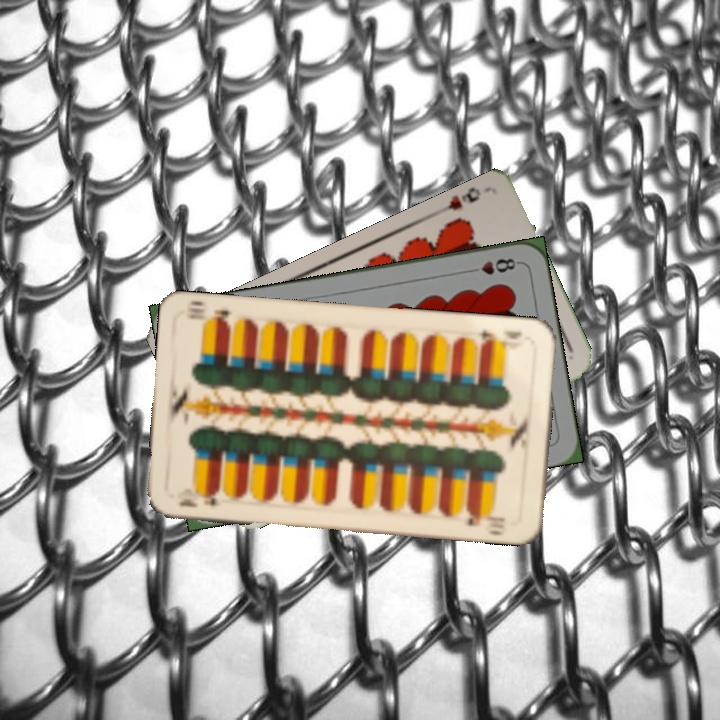E10: (473, 326, 525, 348), (175, 487, 221, 510)
H8: (463, 254, 522, 278)
H9: (435, 184, 483, 217)
